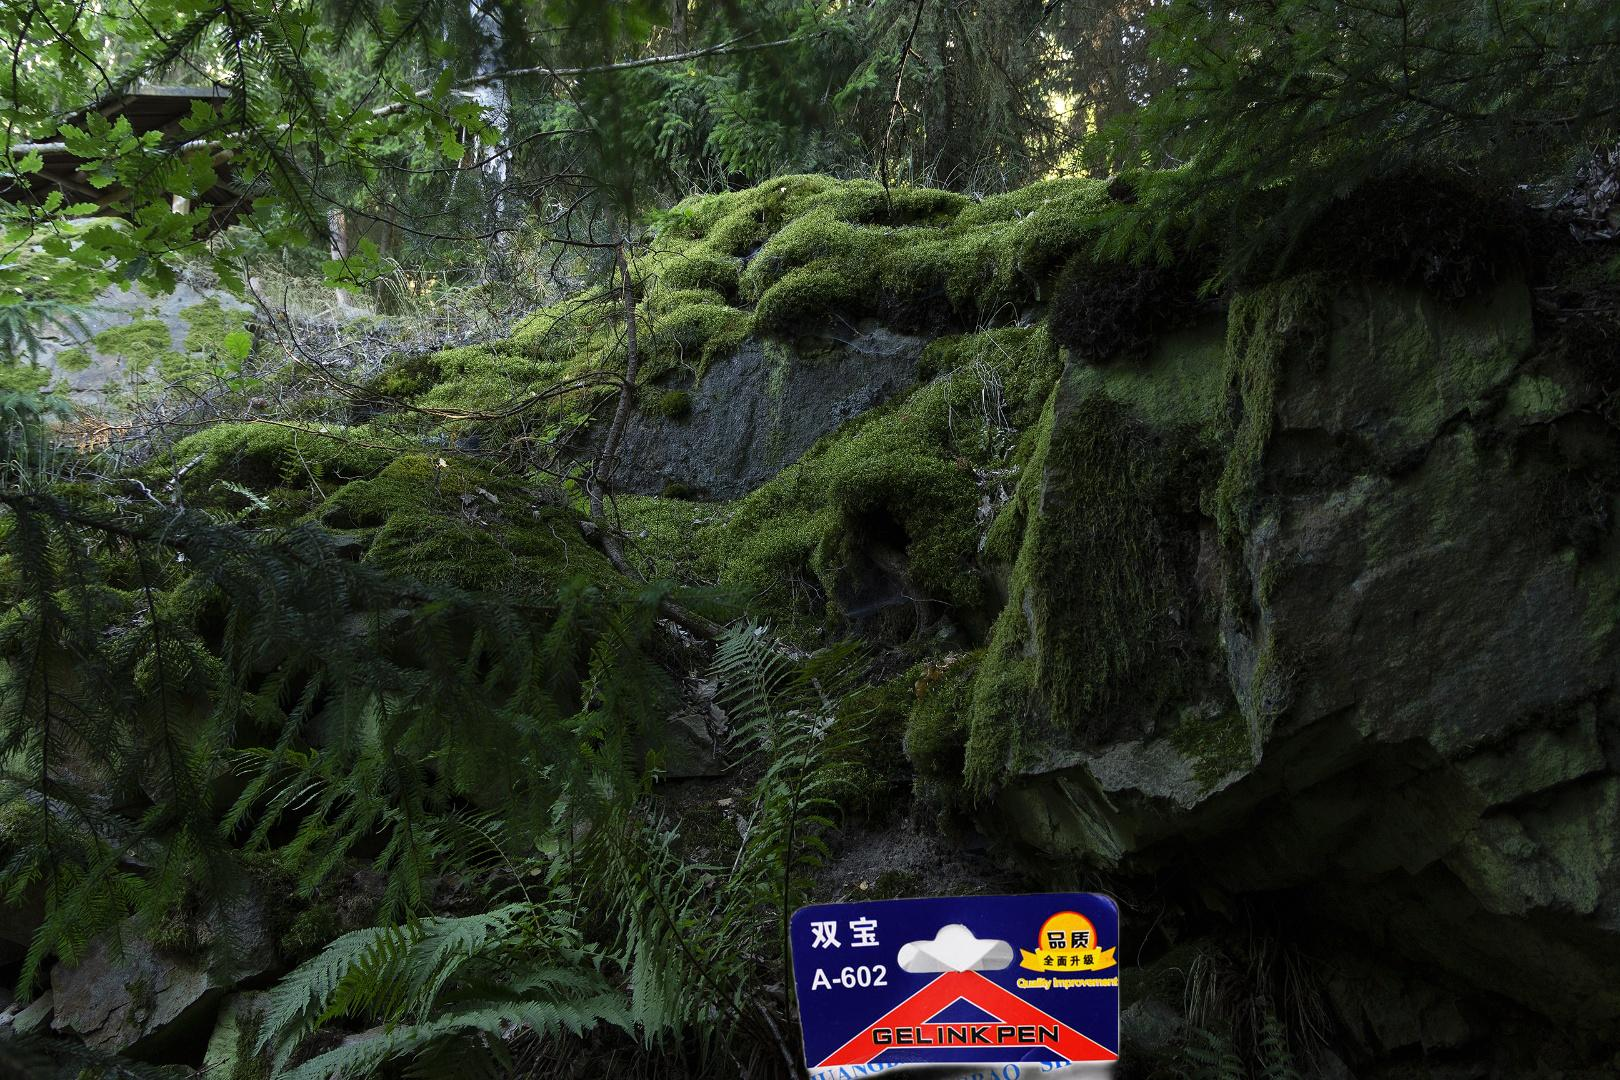penholder: (781, 868, 1129, 1080)
